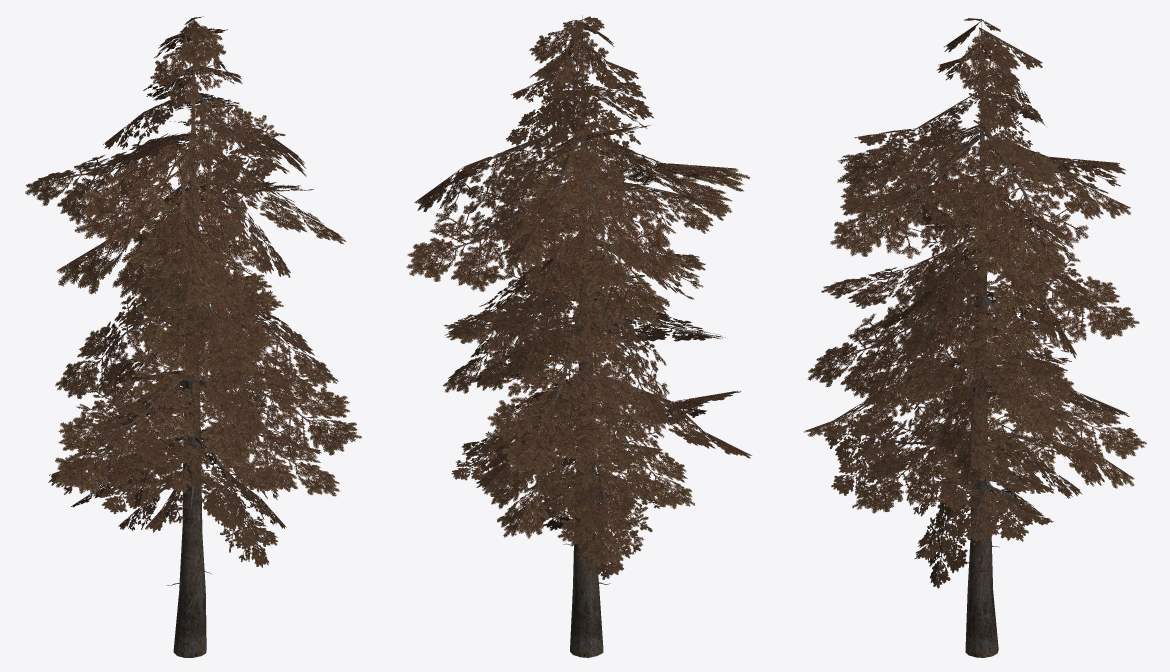
File: trees_sosna_1_red_02_low_1.fbx
3 renders of one model, left to right at view 1: azimuth 30°, elevation 25°; view 2: azimuth 150°, elevation 25°; view 3: azimuth 270°, elevation 25°, orthographic.
Parts seen in each view (by area): view 1: trees_sosna_1_red_02_low_1; view 2: trees_sosna_1_red_02_low_1; view 3: trees_sosna_1_red_02_low_1.
Part boxes in pixels (bbox=[...]): trees_sosna_1_red_02_low_1: bbox=[25, 16, 361, 657]; trees_sosna_1_red_02_low_1: bbox=[406, 15, 751, 657]; trees_sosna_1_red_02_low_1: bbox=[804, 18, 1146, 657].
Size of the model in its own units: 2190 by 4377 by 2258.
